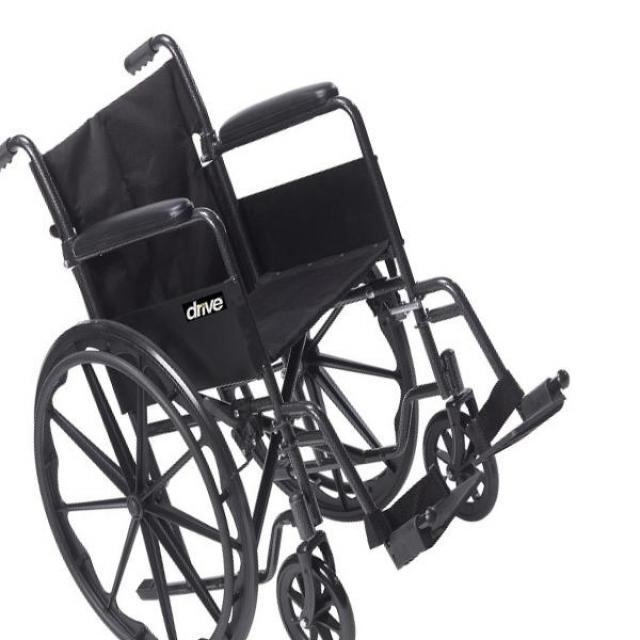wheelchair: (1, 26, 579, 640)
